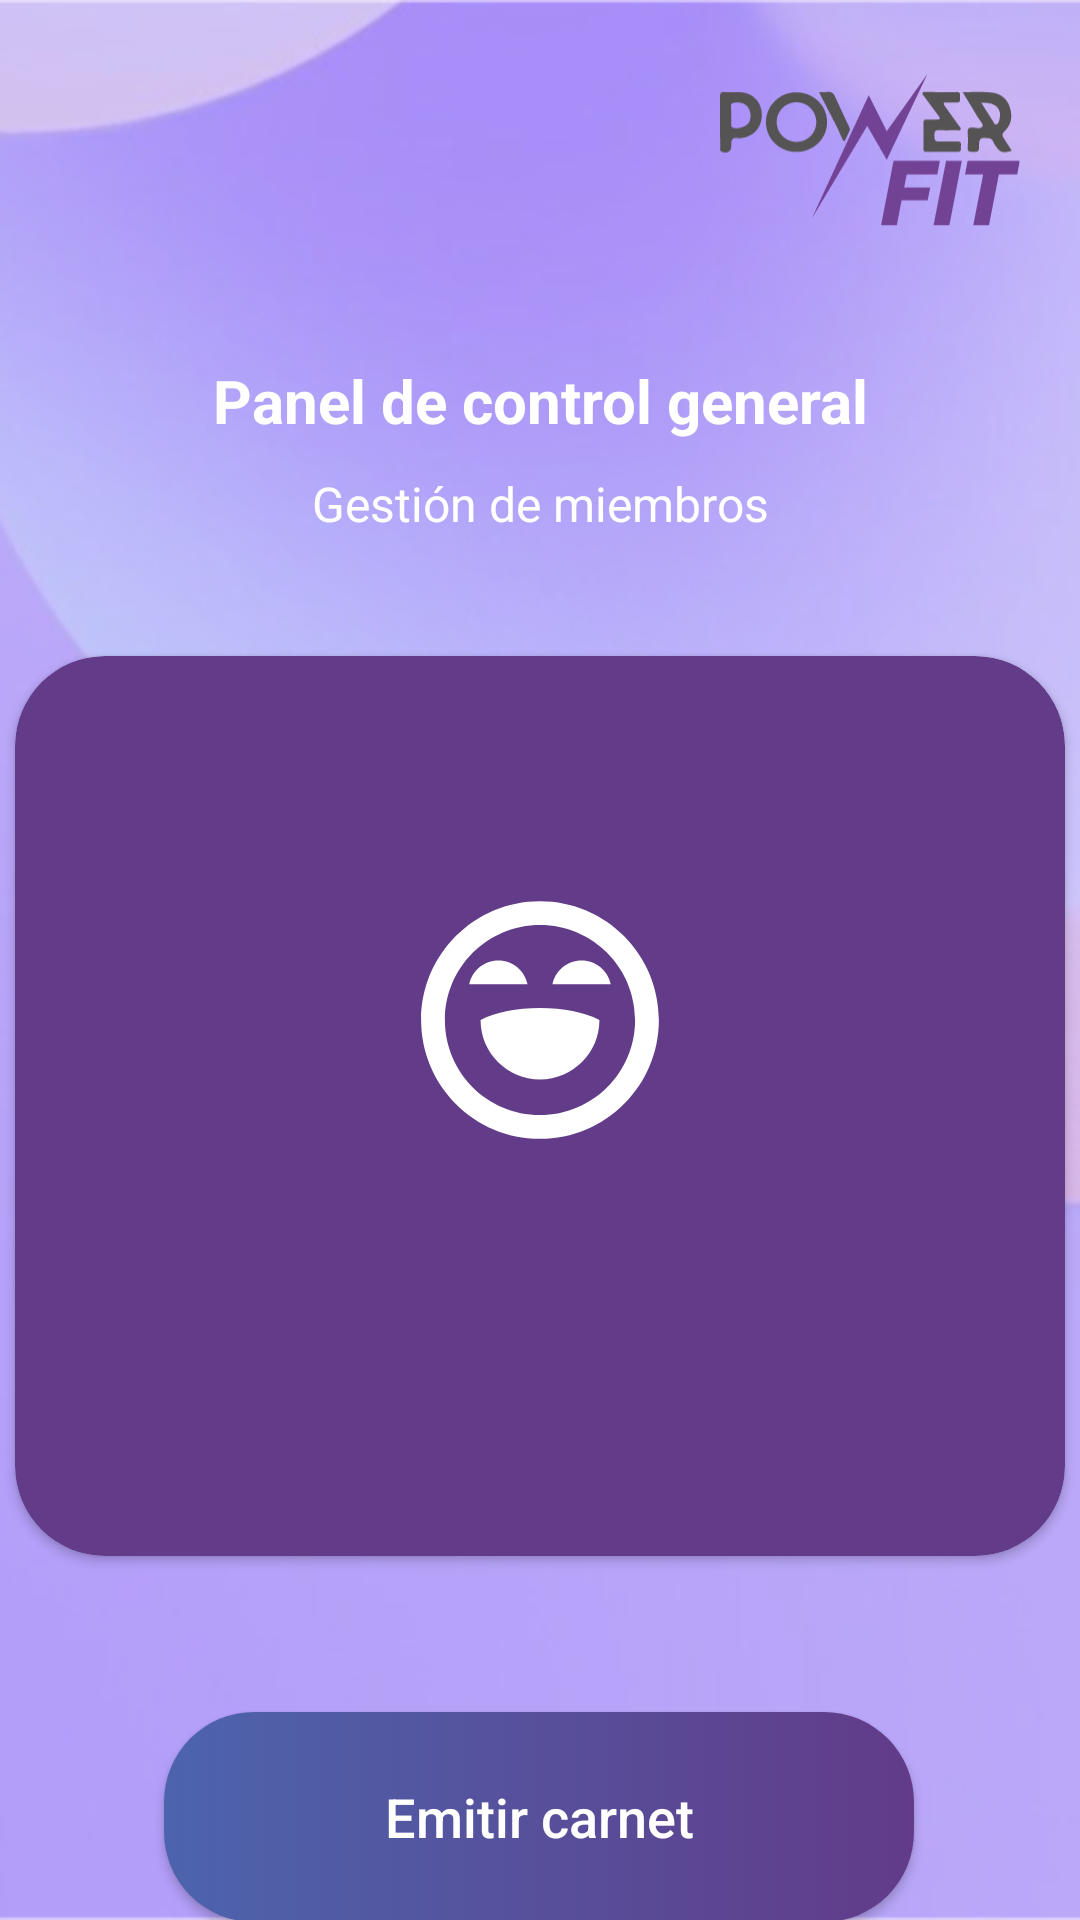

Locate icon controls on the screen. Image size 1080 × 1920, boxes as bbox=[x1, y1, x2, y2].
superhappy: bbox=[421, 901, 659, 1139]
